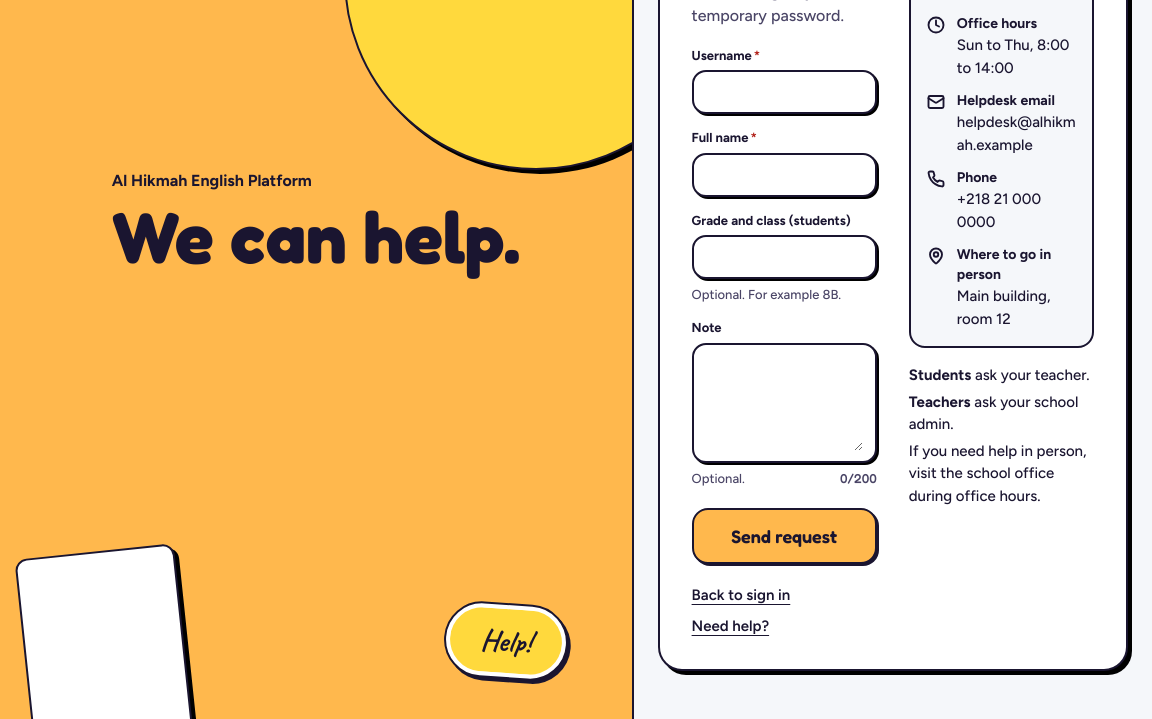
Test case: ForgotPasswordPage › shows field errors and sends nothing when required fields are empty
(page scrolled)
Click the button "Send request". click: (784, 536)
box: [692,508,877,564]
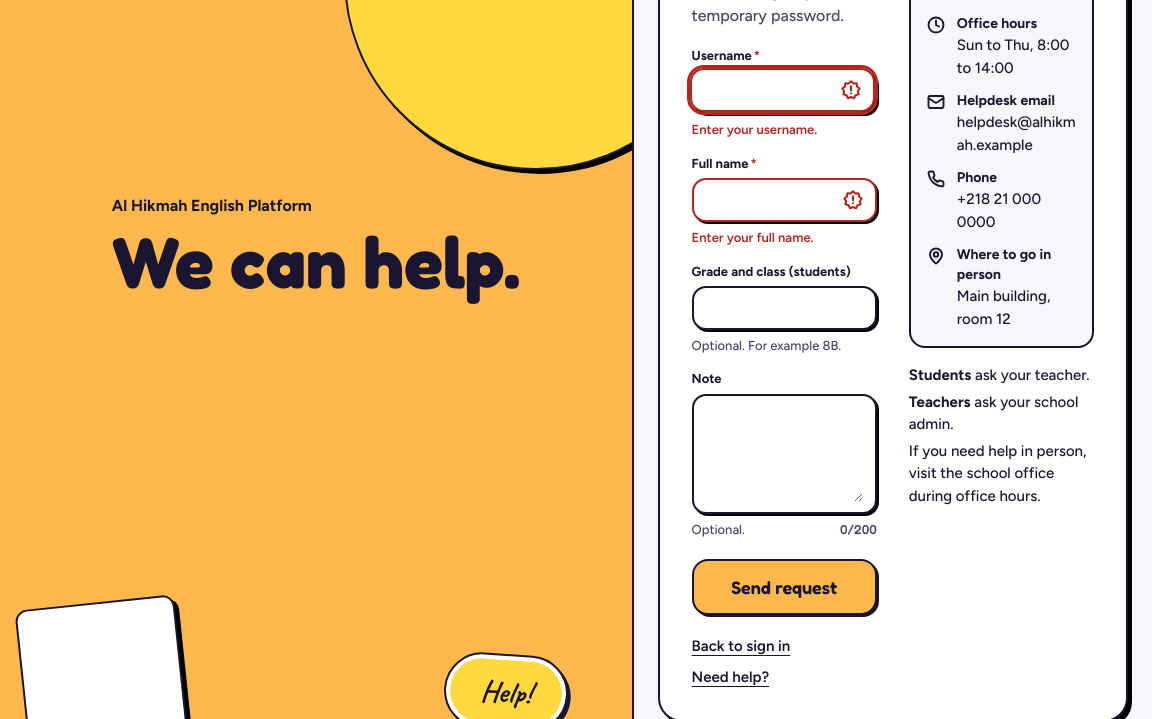
Expected: the text "Enter your username." is shown, [692,120,817,140]
Expected: the text "Enter your full name." is shown, [692,228,814,248]
